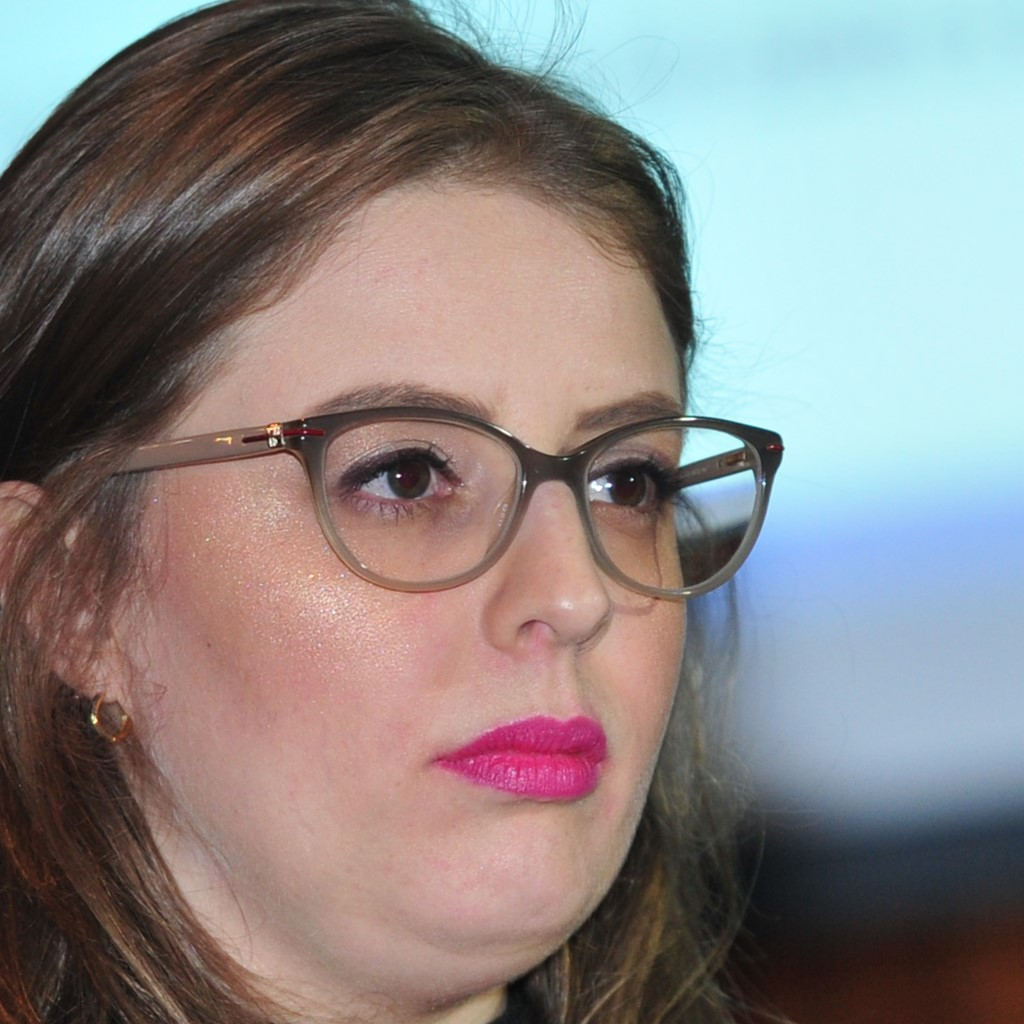sin_mascara: (83, 90, 703, 979)
